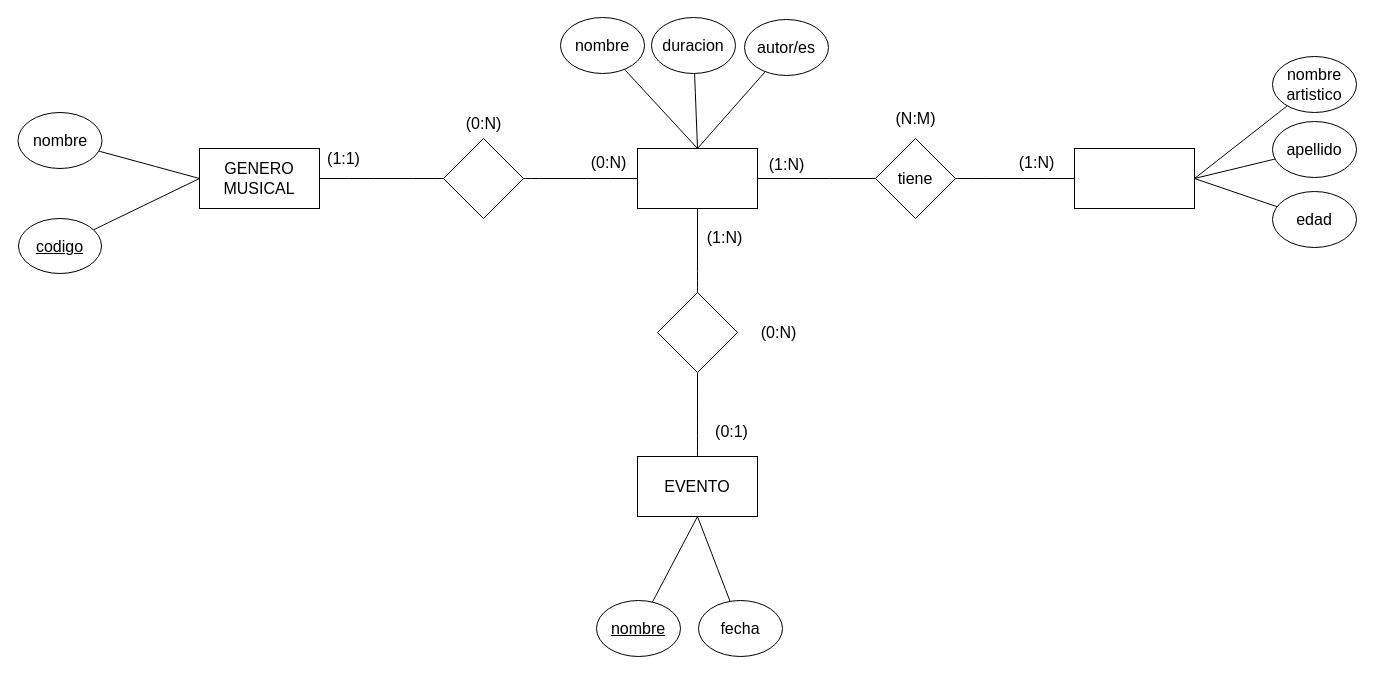
The diagram is 1374 pixels wide and 674 high, and some of its shapes have lost their labels. Here are the shapes that lost their labels. From the top down, the box of each, then its label:
(442, 138, 524, 218): pertenece
(636, 148, 758, 208): CANCION
(1074, 148, 1194, 208): AUTOR
(656, 292, 738, 372): suena
